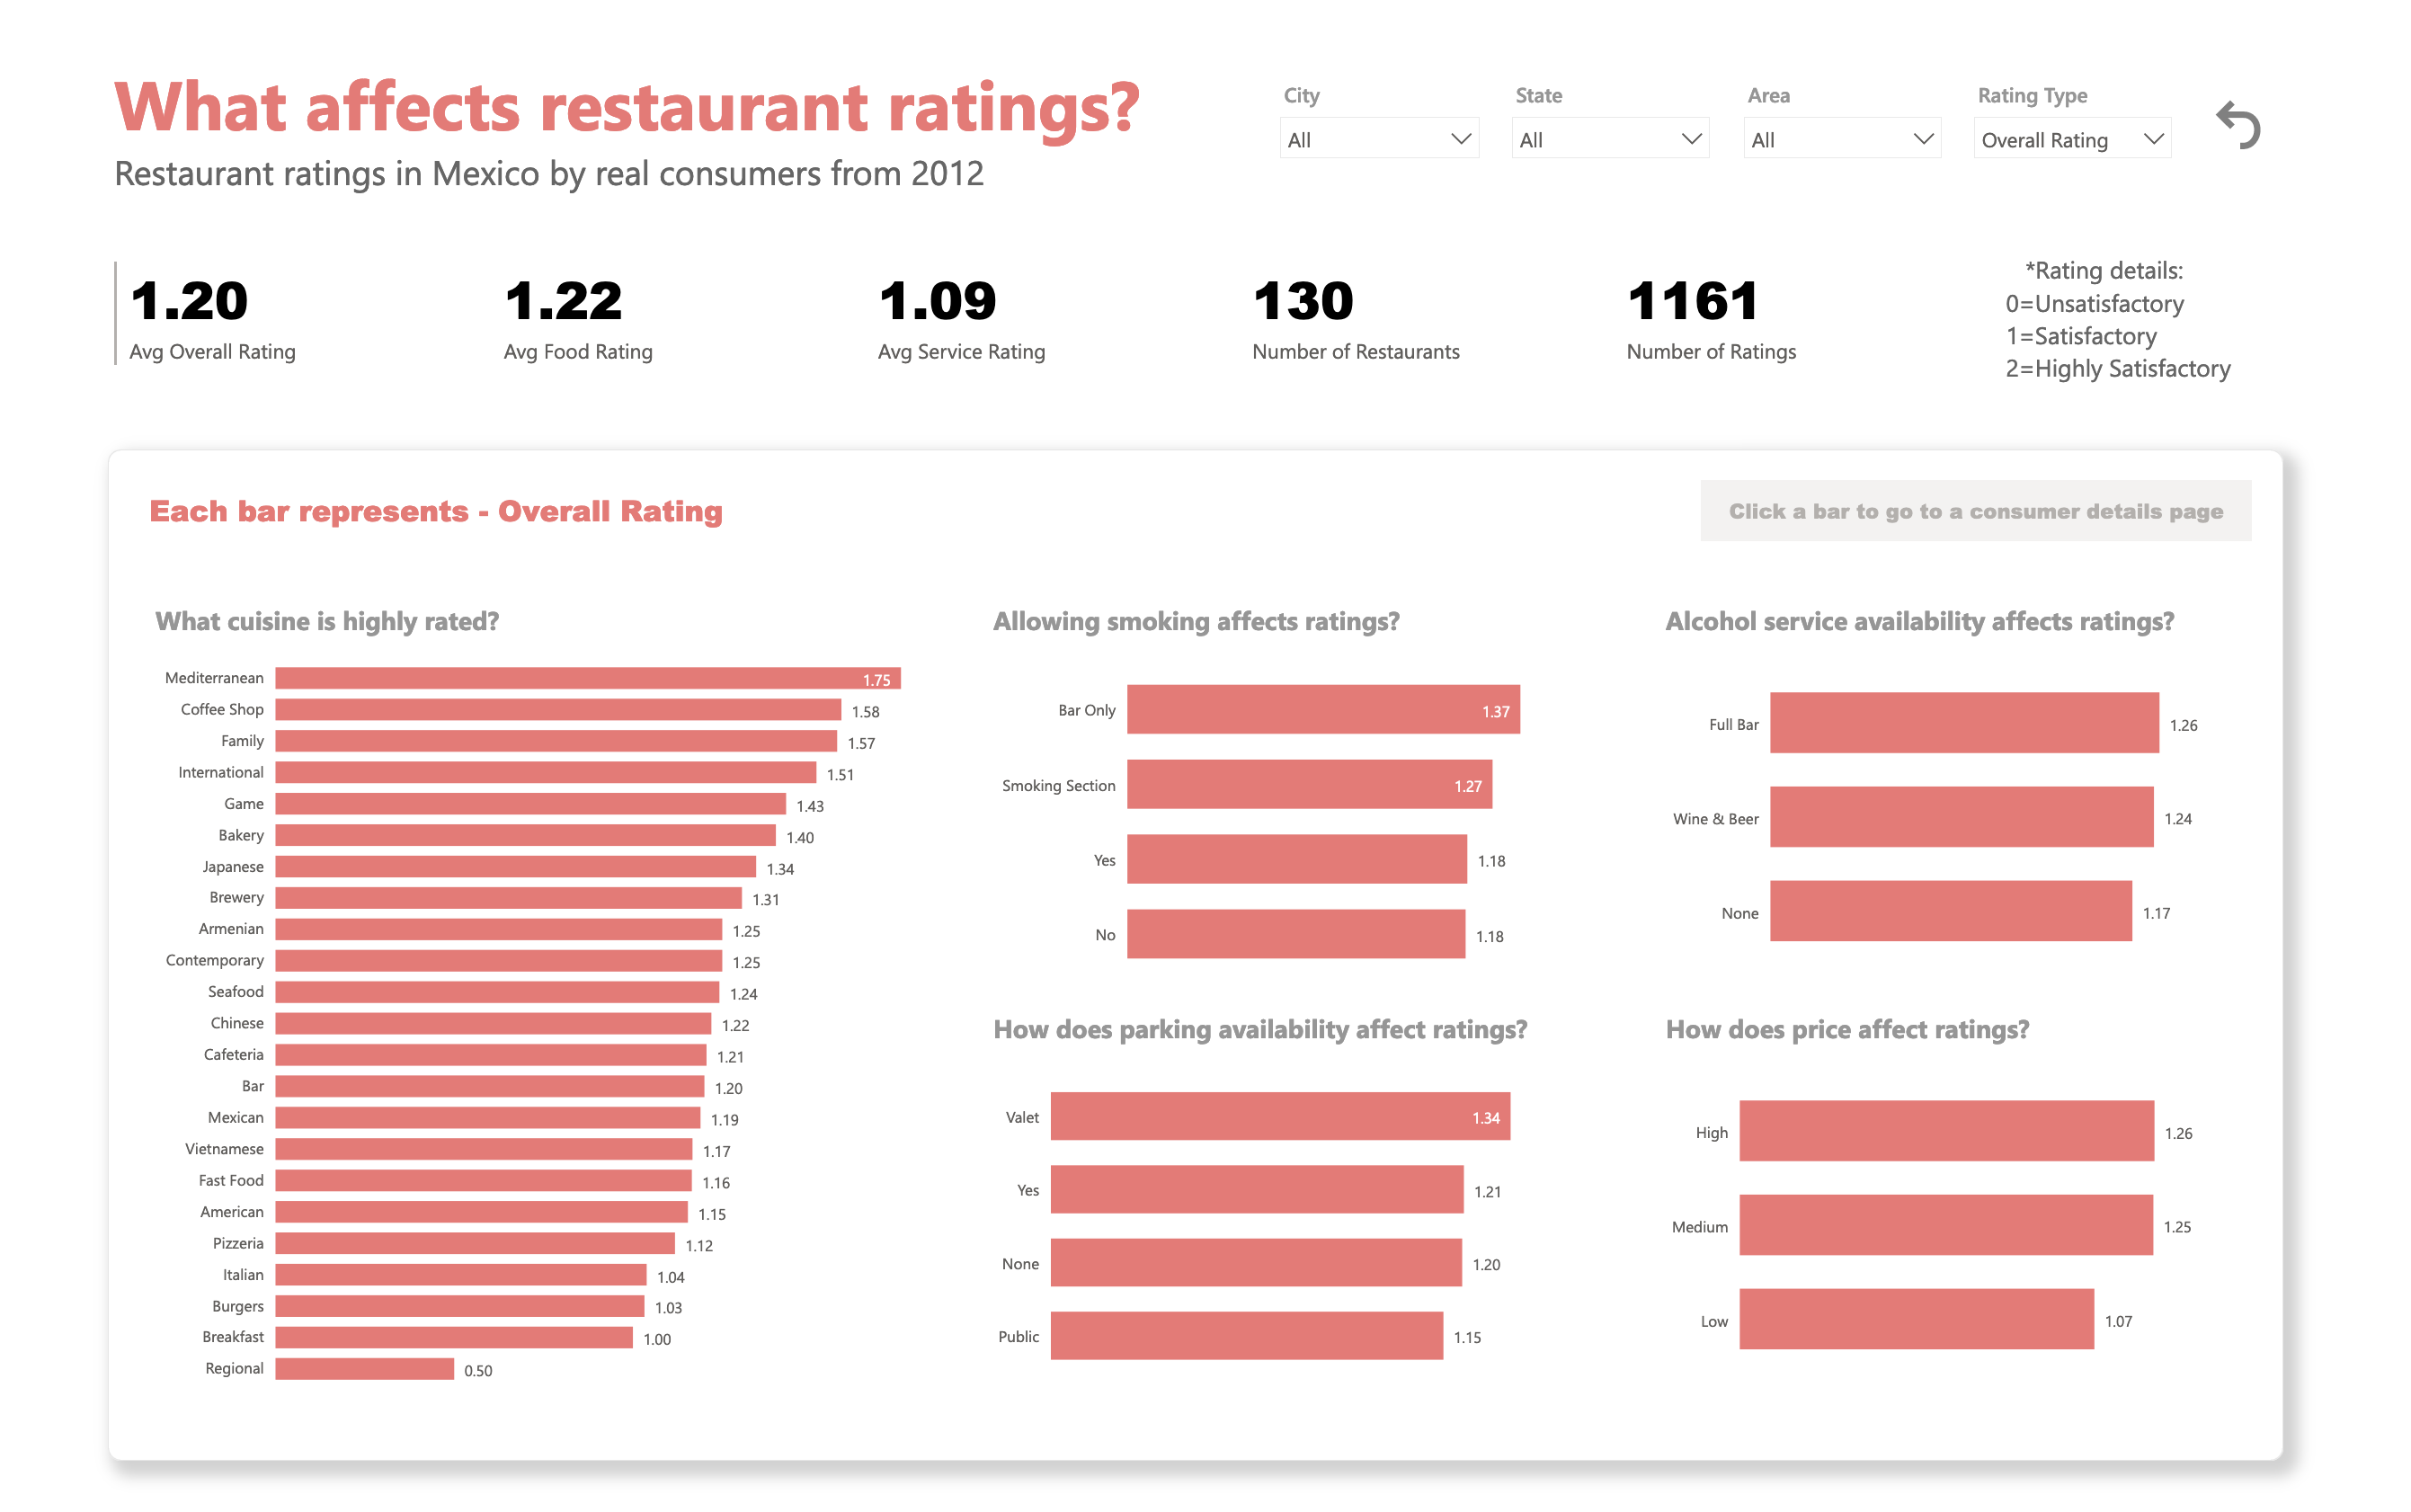

Layout of this report page (visuals, bound fields, positions):
{"tool":"powerbi","page":{"name":"Ratings","canvas":[1800,1200],"ordinal":0},"visuals":[{"type":"shape","box":[48,360,1704,792],"z":0},{"type":"textbox","box":[48,48,928,128],"z":1000},{"type":"textbox","box":[1504,176,240,176],"z":2000},{"type":"multiRowCard","fields":{"Values":["_Measures.Avg Overall Rating","_Measures.Avg Food Rating","_Measures.Avg Service Rating","_Measures.Restaurant","_Measures.Number of Ratings"]},"box":[48,208,1488,144],"z":3000},{"type":"barChart","title":"How does price affect ratings?","fields":{"Category":["restaurants.Price"],"Y":["_Measures.Selected Rating"]},"box":[1264,800,430,304],"z":4000},{"type":"slicer","fields":{"Values":["restaurants.City"]},"box":[956.6,66.4,176,80],"z":5000},{"type":"slicer","fields":{"Values":["restaurants.Area"]},"box":[1319.6,66.4,175,80],"z":6000},{"type":"slicer","fields":{"Values":["restaurants.State"]},"box":[1138.6,66.4,175,80],"z":7000},{"type":"barChart","title":"Allowing smoking affects ratings?","fields":{"Category":["restaurants.Smoking_Allowed"],"Y":["_Measures.Selected Rating"]},"box":[736,480,430,310],"z":8000},{"type":"barChart","title":"Alcohol service availability affects ratings?","fields":{"Category":["restaurants.Alcohol_Service"],"Y":["_Measures.Selected Rating"]},"box":[1264,480,430,304],"z":9000},{"type":"barChart","title":"What cuisine is highly rated?","fields":{"Category":["restaurant_cuisines.Cuisine"],"Y":["_Measures.Selected Rating"]},"box":[80,480,608,624],"z":10000},{"type":"actionButton","box":[1692.6,66.4,48,80],"z":11000},{"type":"slicer","fields":{"Values":["Rating Types.Rating Type"]},"box":[1500.6,66.4,175,80],"z":12000},{"type":"shape","box":[80,368,528,80],"z":13000},{"type":"barChart","title":"How does parking availability affect ratings?","fields":{"Category":["restaurants.Parking"],"Y":["_Measures.Selected Rating"]},"box":[736,800,430,304],"z":14000},{"type":"actionButton","box":[1296,384,432,48],"z":15000}]}

Visuals, with their boxes on the page's 1800x1200 design canvas (x1, y1, x2, y2). These are canvas units, not pixel positions in the 2411x1512 screenshot, which may show the page scaled, cropped or inside an application window:
shape: 48:360:1752:1152
textbox: 48:48:976:176
textbox: 1504:176:1744:352
multiRowCard - _Measures.Avg Overall Rating x _Measures.Avg Food Rating: 48:208:1536:352
"How does price affect ratings?" barChart: 1264:800:1694:1104
slicer - restaurants.City: 957:66:1133:146
slicer - restaurants.Area: 1320:66:1495:146
slicer - restaurants.State: 1139:66:1314:146
"Allowing smoking affects ratings?" barChart: 736:480:1166:790
"Alcohol service availability affects ratings?" barChart: 1264:480:1694:784
"What cuisine is highly rated?" barChart: 80:480:688:1104
actionButton: 1693:66:1741:146
slicer - Rating Types.Rating Type: 1501:66:1676:146
shape: 80:368:608:448
"How does parking availability affect ratings?" barChart: 736:800:1166:1104
actionButton: 1296:384:1728:432
